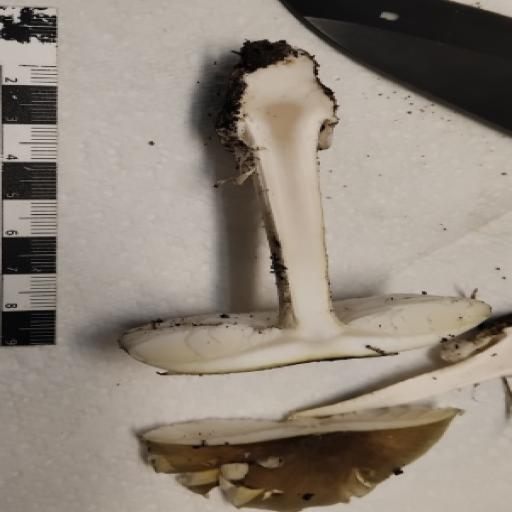mushroom: (31, 31, 491, 501), (0, 1, 1, 1)
